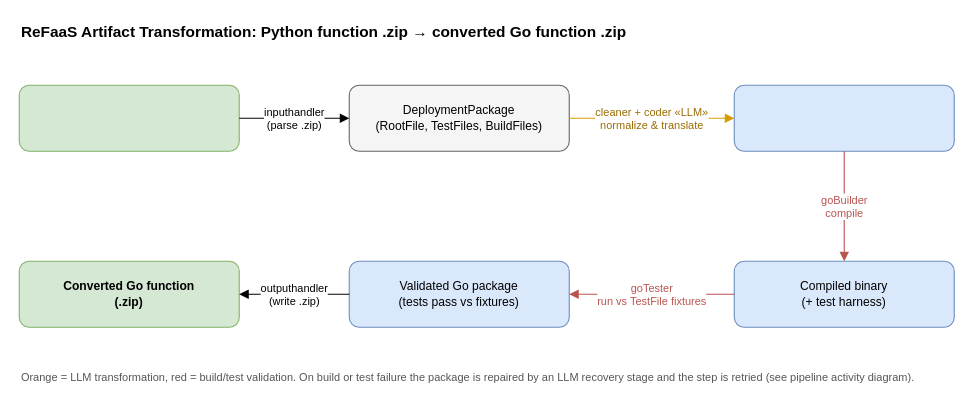
Image size: 974x411. Some labels were removed from this diagram. Here are the shapes that lost their labels. From the top down, the centre of each, then its label:
At point (128, 117): "Python function (.zip: source + test fixtures)".
At point (843, 117): "Go package (main.go, go.mod)".
